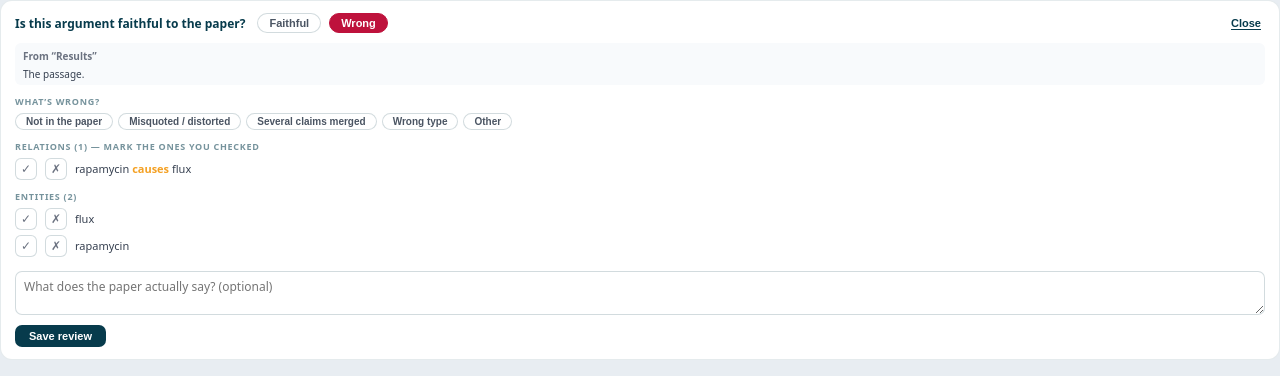
Test case: argument evaluation › Detail opens the review when asked, and saves reasons and per-part checks
Expected: the text "What’s wrong?" is shown, [15,94,100,108]
Expected: the text "The passage." is shown, [23,67,84,81]
Click the button "Misquoted / distorted": (180, 121) [118,112,241,130]
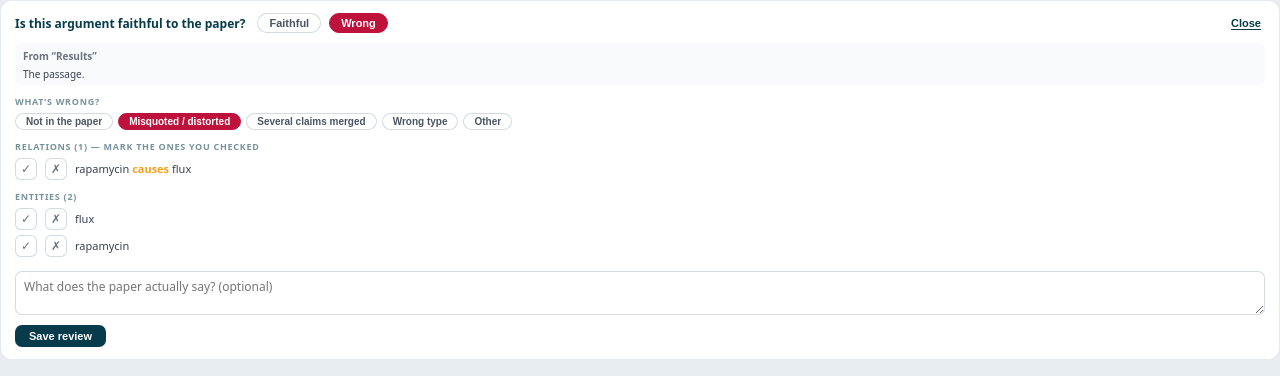
Click the button titled "Wrong" in the row of "causes": (56, 168) [45,158,67,180]
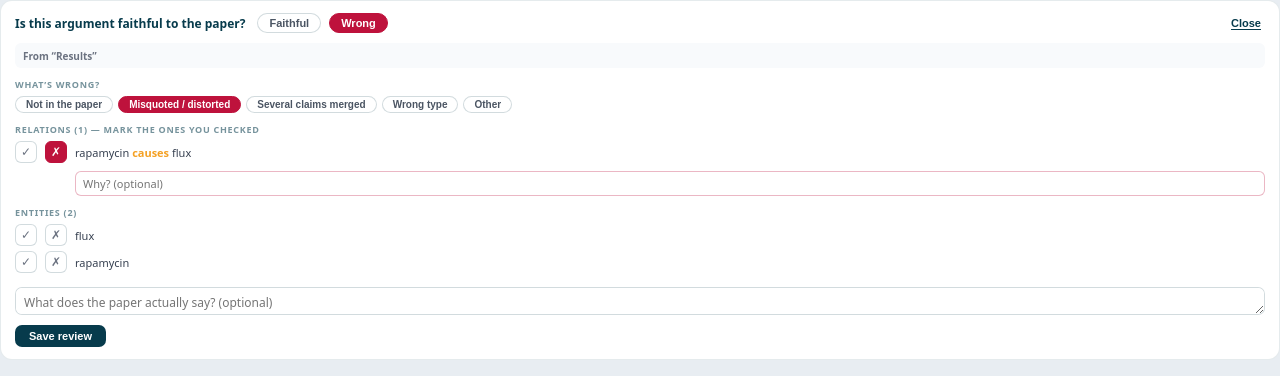
In the field with placeholder "Why? (optional)": (670, 184) [75,171,1265,196], type "it inhibits"
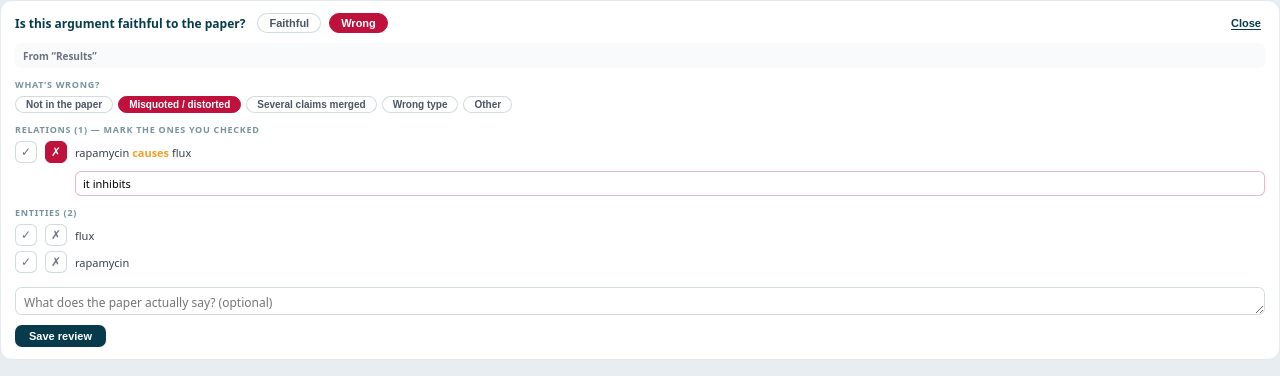
Click the button "Save review": (60, 336) [15,325,106,347]
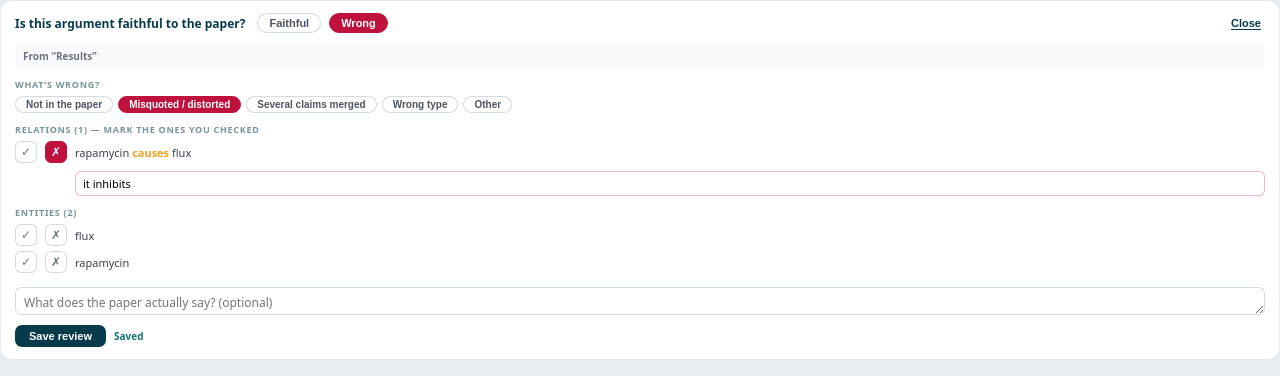
Now the text "Saved" is shown, box [114,329,144,343]
